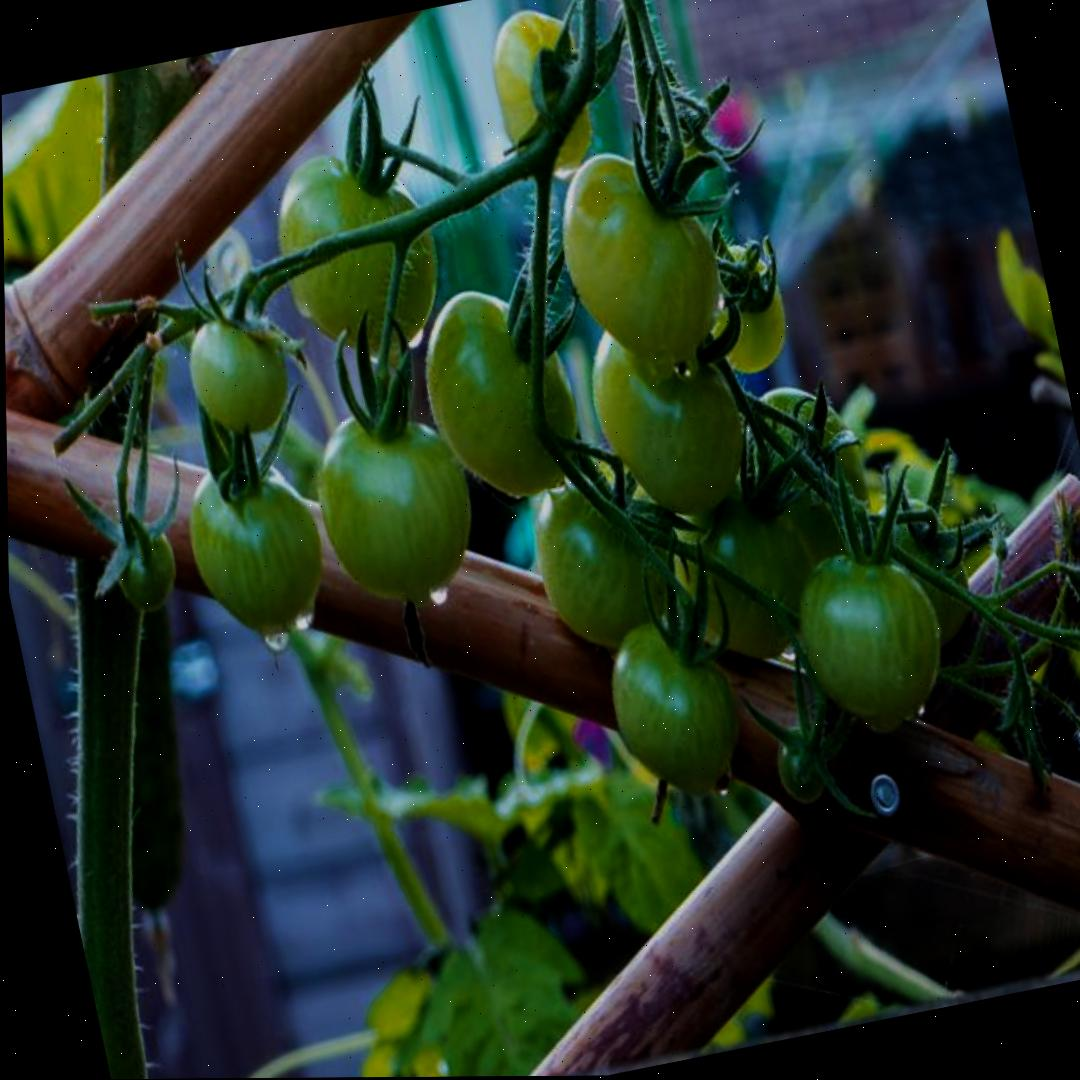mentah: (544, 132, 737, 383), (402, 266, 592, 515), (259, 135, 451, 367), (300, 394, 488, 612), (781, 525, 959, 744), (594, 607, 753, 806), (176, 449, 336, 644), (178, 301, 296, 442)
